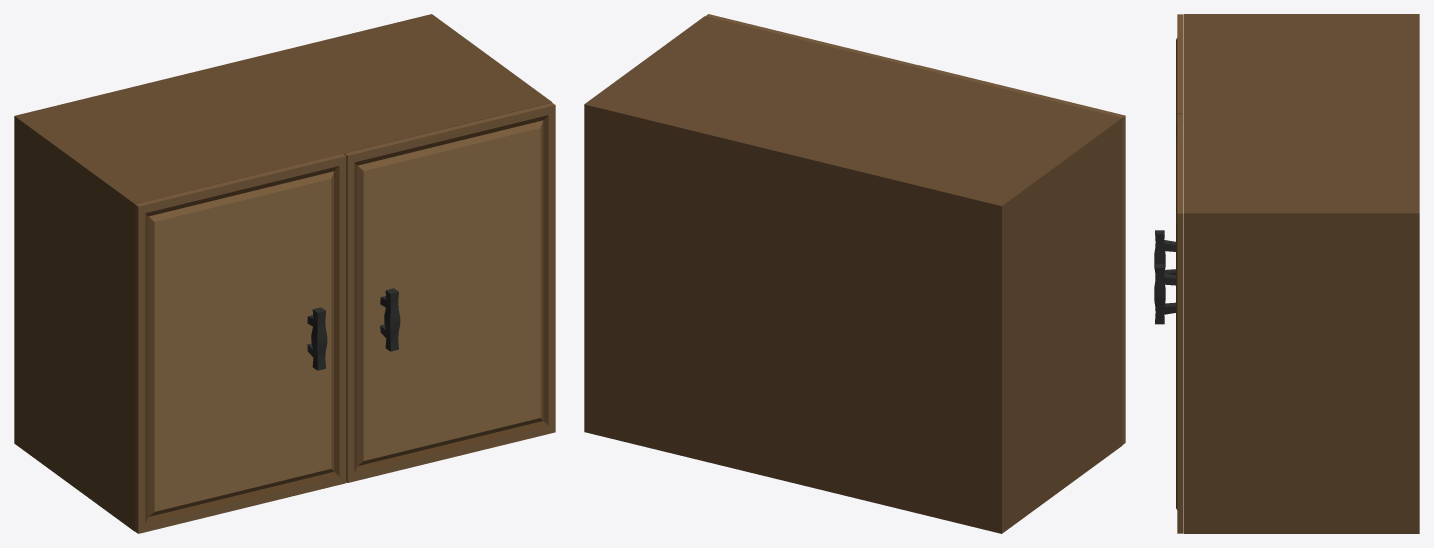
The model's file is SM_Prop_KitchenTabletop_05.obj.
3 renders of one model, left to right at view 1: azimuth 30°, elevation 25°; view 2: azimuth 150°, elevation 25°; view 3: azimuth 270°, elevation 25°, orthographic. The views are drawn at different scales.
Parts seen in each view (by area): view 1: SM_Prop_KitchenTabletop_05_Mat_SwatchOverlay_Farm_01_Wood_Inst, SM_Prop_KitchenTabletop_05_Mat_SwatchOverlay_Farm_01_Inst; view 2: SM_Prop_KitchenTabletop_05_Mat_SwatchOverlay_Farm_01_Wood_Inst; view 3: SM_Prop_KitchenTabletop_05_Mat_SwatchOverlay_Farm_01_Wood_Inst, SM_Prop_KitchenTabletop_05_Mat_SwatchOverlay_Farm_01_Inst.
Part boxes in pixels (x1,y1,x2,y2): SM_Prop_KitchenTabletop_05_Mat_SwatchOverlay_Farm_01_Wood_Inst: [14, 14, 555, 533]; SM_Prop_KitchenTabletop_05_Mat_SwatchOverlay_Farm_01_Inst: [307, 288, 400, 370]; SM_Prop_KitchenTabletop_05_Mat_SwatchOverlay_Farm_01_Wood_Inst: [584, 14, 1125, 533]; SM_Prop_KitchenTabletop_05_Mat_SwatchOverlay_Farm_01_Wood_Inst: [1176, 14, 1419, 533]; SM_Prop_KitchenTabletop_05_Mat_SwatchOverlay_Farm_01_Inst: [1154, 230, 1175, 324].
Bounding box in the file's own units: 0.7967 × 0.5975 × 0.4484.
Materials: 2 (2 with a texture image).
